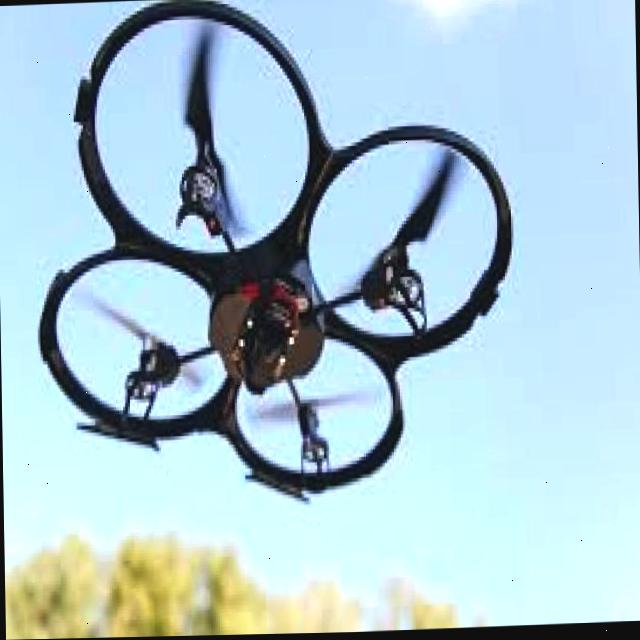drone: (20, 0, 530, 533)
